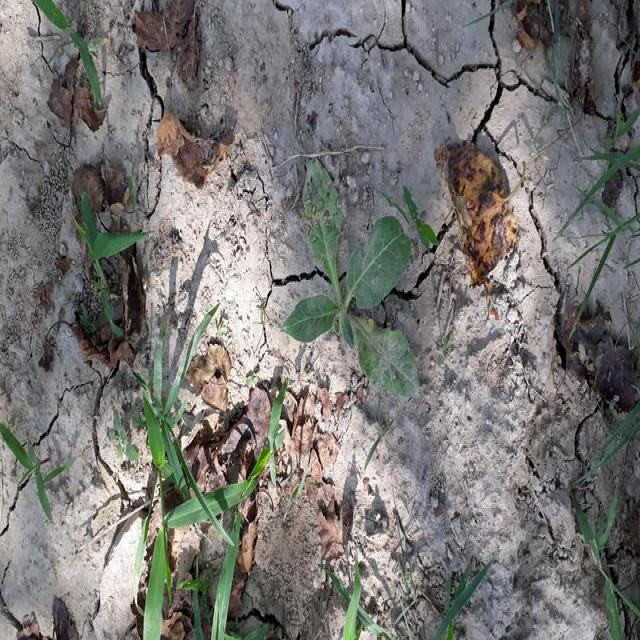crop: (280, 166, 412, 397)
